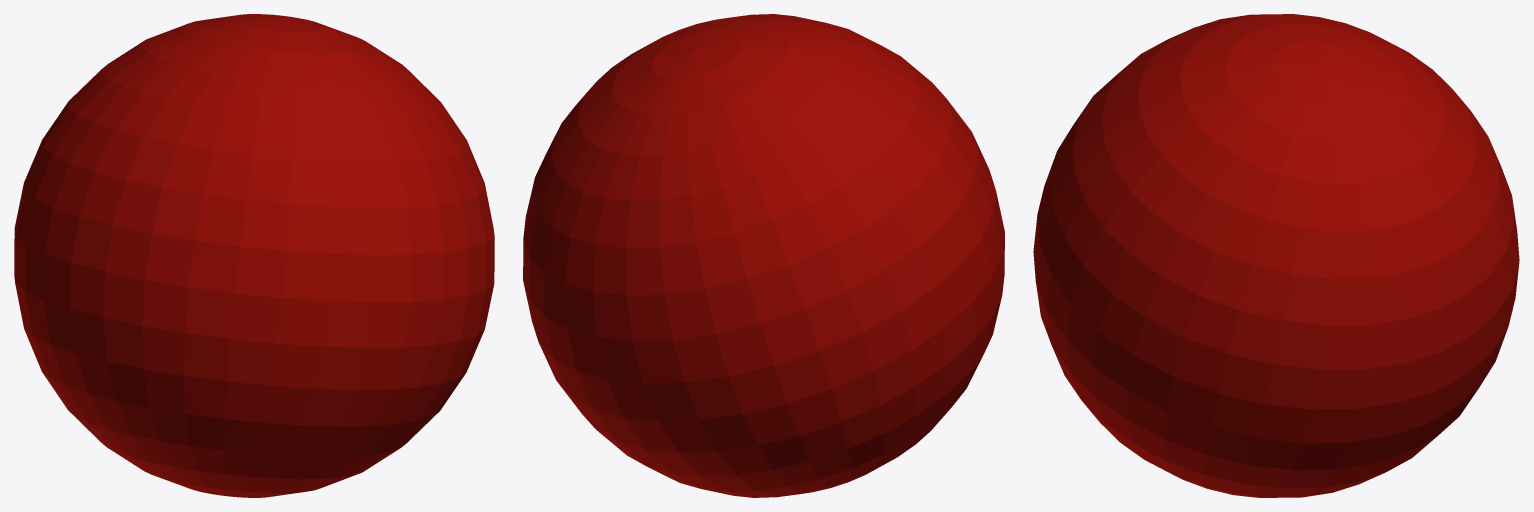
3 renders of one model, left to right at view 1: azimuth 30°, elevation 25°; view 2: azimuth 150°, elevation 25°; view 3: azimuth 270°, elevation 25°, orthographic.
Parts seen in each view (by area): view 1: Sphere.005; view 2: Sphere.005; view 3: Sphere.005.
Part boxes in pixels (left/top/right/bottom): Sphere.005: left=14, top=14, right=494, bottom=497; Sphere.005: left=523, top=14, right=1004, bottom=497; Sphere.005: left=1033, top=14, right=1519, bottom=497.
Size of the model in its own units: 0.00363 by 0.00362 by 0.00363.
